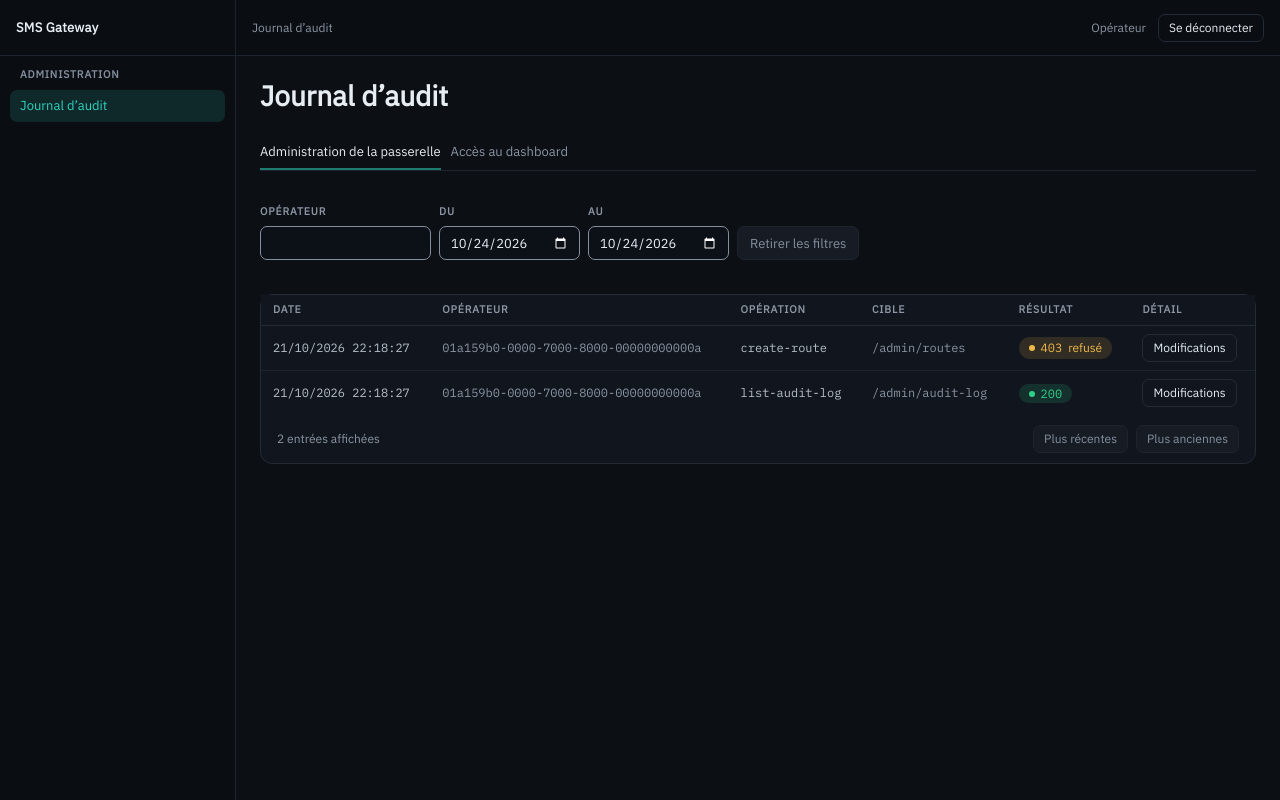
Scenario: the changes of a request show before and after, the changed columns marked
Expected: the text "create-route" is shown, [740, 340, 827, 355]
Click the button "Modifications" in the row of "create-route" at (1190, 348), box [1142, 334, 1237, 362]
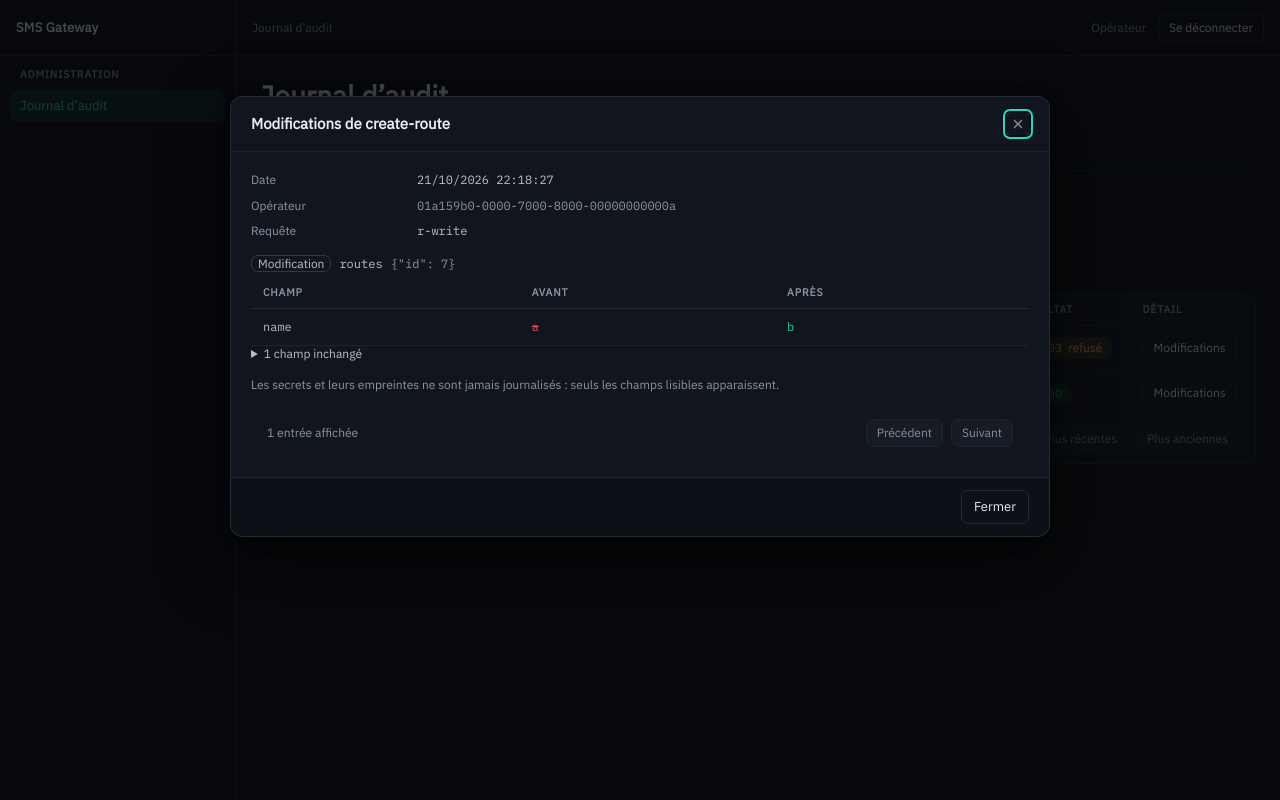
Now the heading "routes" is shown, box [339, 256, 383, 271]
Now the element showing "r-write" is shown, box [417, 223, 467, 238]
Now the element showing "01a159b0-0000-7000-8000-00000000000a" is shown, box [417, 198, 676, 213]
Click the button "Fermer" at (995, 507), box [961, 490, 1029, 524]
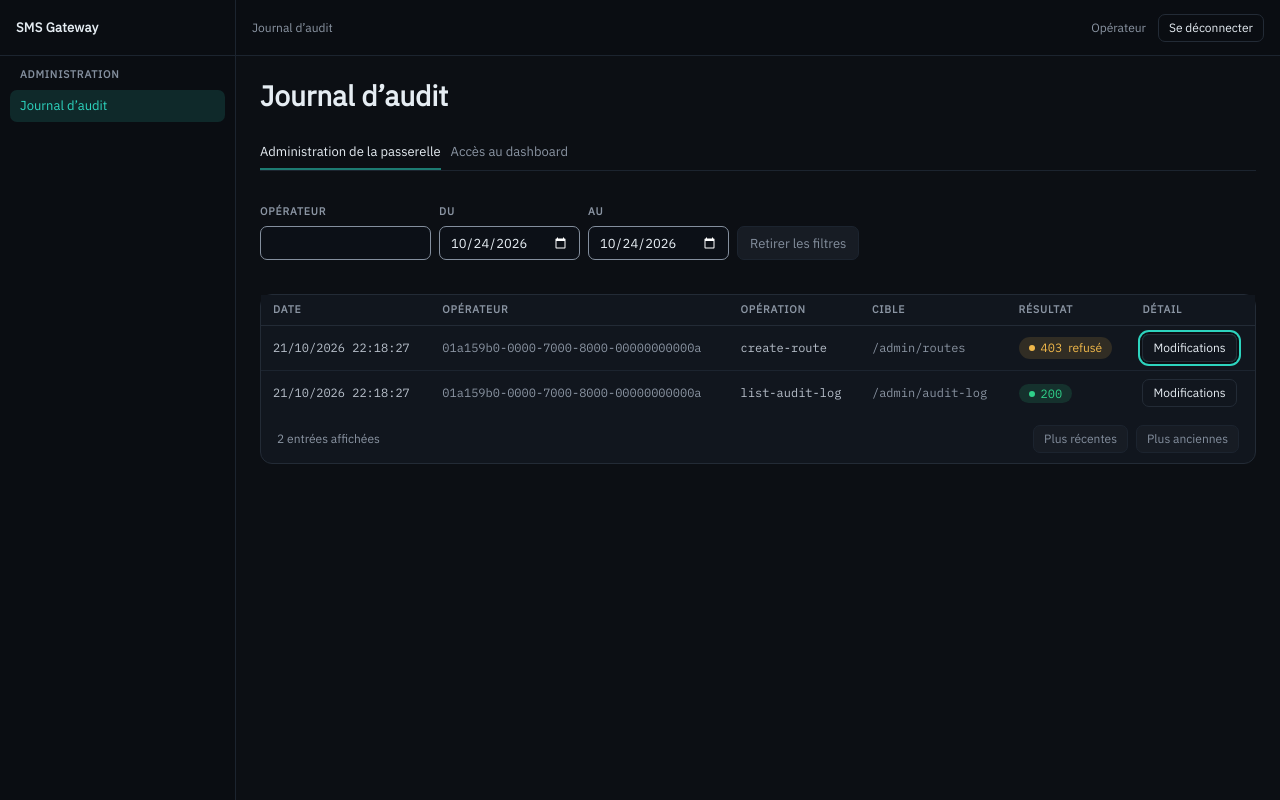
Click the button "Modifications" in the row of "list-audit-log" at (1190, 393), box [1142, 379, 1237, 407]
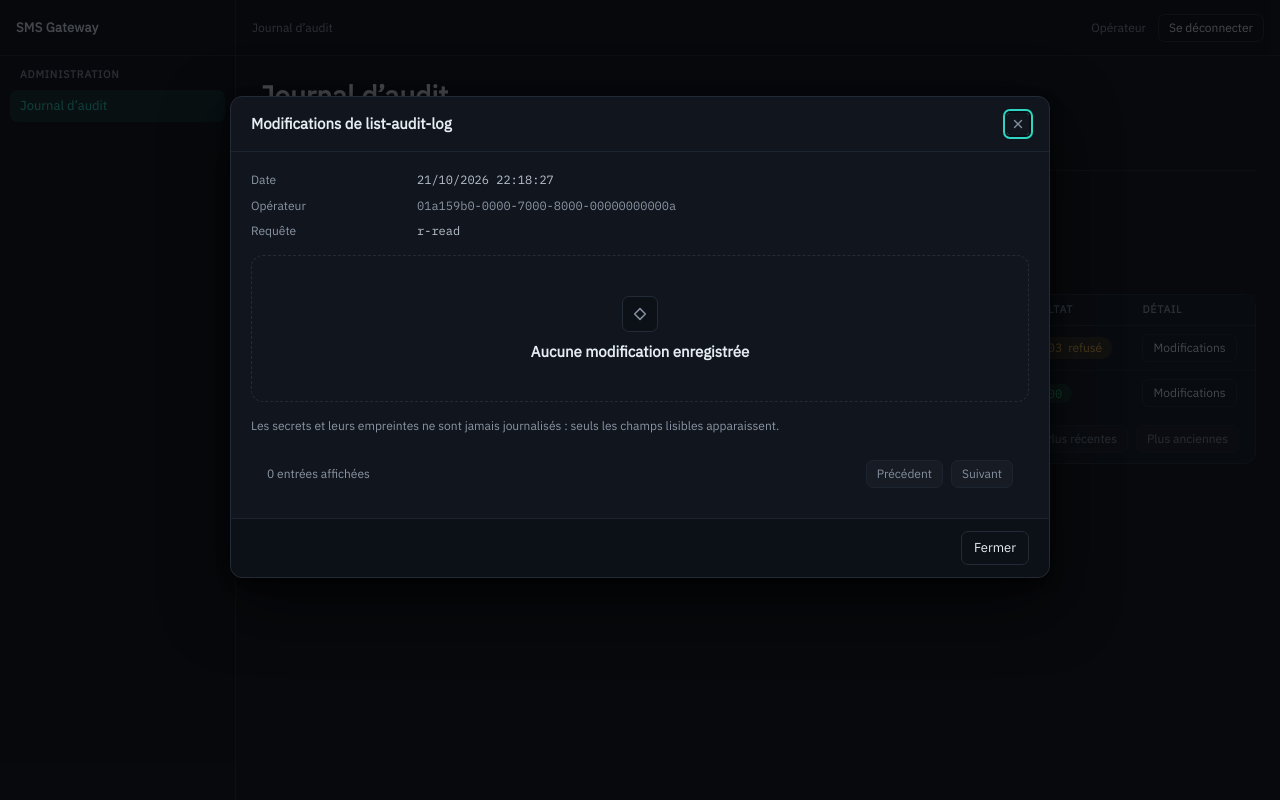
Now the text "Aucune modification enregistrée" is shown, box [531, 342, 749, 361]
